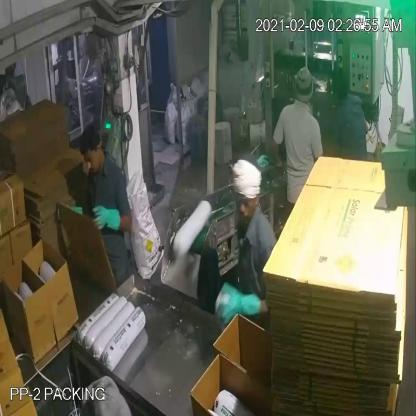glove: (215, 275, 264, 331), (90, 198, 126, 240)
no_glove: (269, 135, 284, 175)
